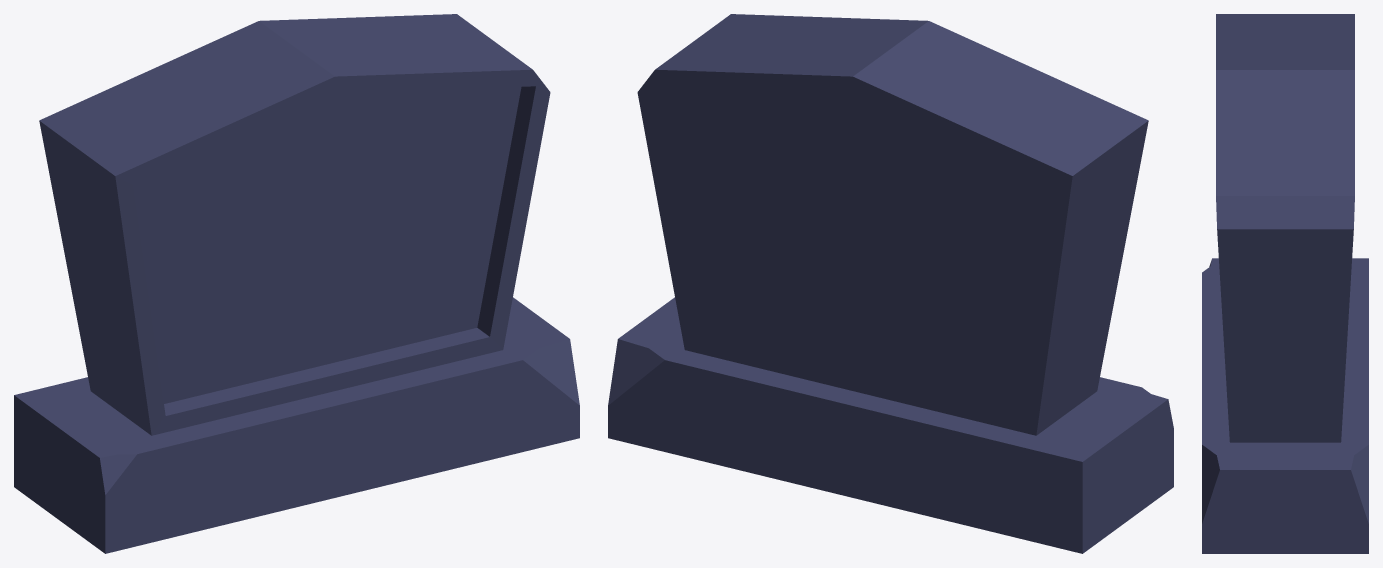
File: Stone1.fbx
3 views of the same model, side by side, from view 1: azimuth 30°, elevation 25°; view 2: azimuth 150°, elevation 25°; view 3: azimuth 270°, elevation 25° (orthographic). The views are drawn at different scales.
Parts seen in each view (by area): view 1: stone1; view 2: stone1; view 3: stone1.
Part boxes in pixels (x1,y1,x2,y2): stone1: [14, 14, 579, 553]; stone1: [608, 14, 1173, 553]; stone1: [1202, 14, 1368, 553].
Size of the model in its own units: 216 by 180 by 72.
